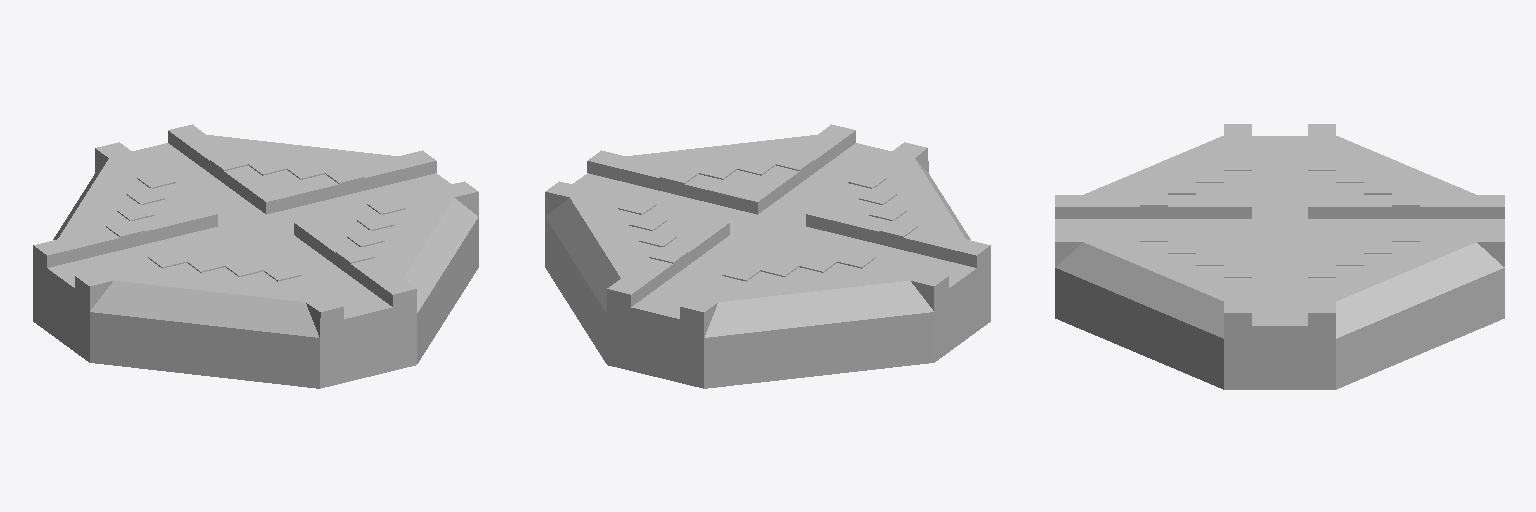
Rendered from modelPlateConditional.obj.
The picture shows the model from 3 angles: view 1: azimuth 30°, elevation 25°; view 2: azimuth 150°, elevation 25°; view 3: azimuth 270°, elevation 25°; orthographic projection.
Parts seen in each view (by area): view 1: Plate, Active_South, Active_North, Active_East, Active_West, Active_Centre; view 2: Plate, Active_North, Active_South, Active_East, Active_West, Active_Centre; view 3: Plate, Active_East, Active_West, Active_South, Active_North, Active_Centre.
Boxes of the visible parts, <box> form: Plate: <box>33,124,478,388</box>; Active_South: <box>259,235,391,318</box>; Active_North: <box>132,143,265,225</box>; Active_East: <box>267,173,450,234</box>; Active_West: <box>48,227,232,287</box>; Active_Centre: <box>218,215,292,243</box>; Plate: <box>545,124,990,388</box>; Active_North: <box>632,235,764,318</box>; Active_South: <box>758,143,891,225</box>; Active_East: <box>573,173,756,234</box>; Active_West: <box>791,227,975,287</box>; Active_Centre: <box>731,215,805,243</box>; Plate: <box>1055,124,1504,389</box>; Active_East: <box>1252,243,1307,325</box>; Active_West: <box>1252,136,1307,218</box>; Active_South: <box>1055,219,1251,229</box>; Active_North: <box>1308,219,1504,229</box>; Active_Centre: <box>1252,219,1307,242</box>.
Bounding box in the file's own units: 16 × 3.05 × 16.